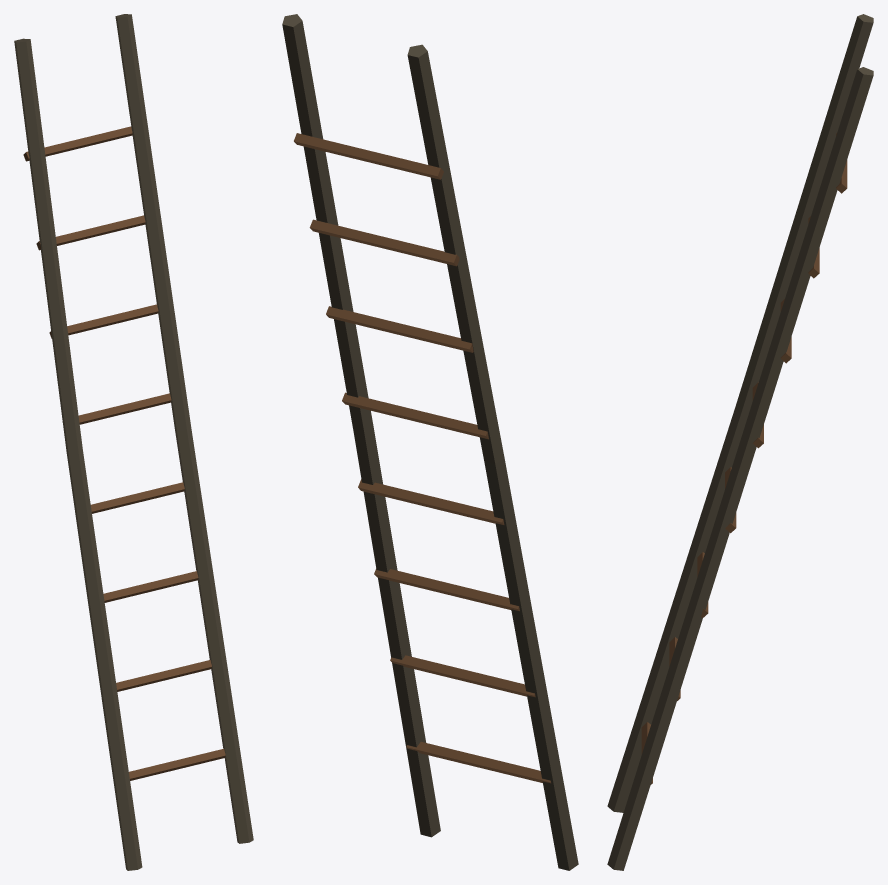
File: Ladder.fbx
3 renders of one model, left to right at view 1: azimuth 30°, elevation 25°; view 2: azimuth 150°, elevation 25°; view 3: azimuth 270°, elevation 25°, orthographic. The views are drawn at different scales.
Visible parts, largest first — view 1: Ladder; view 2: Ladder; view 3: Ladder.
Part boxes in pixels (x1,y1,x2,y2): Ladder: [14, 14, 253, 870]; Ladder: [282, 14, 578, 870]; Ladder: [607, 14, 873, 870].
Bounding box in the file's own units: 0.4971 × 2.82 × 0.8523.
